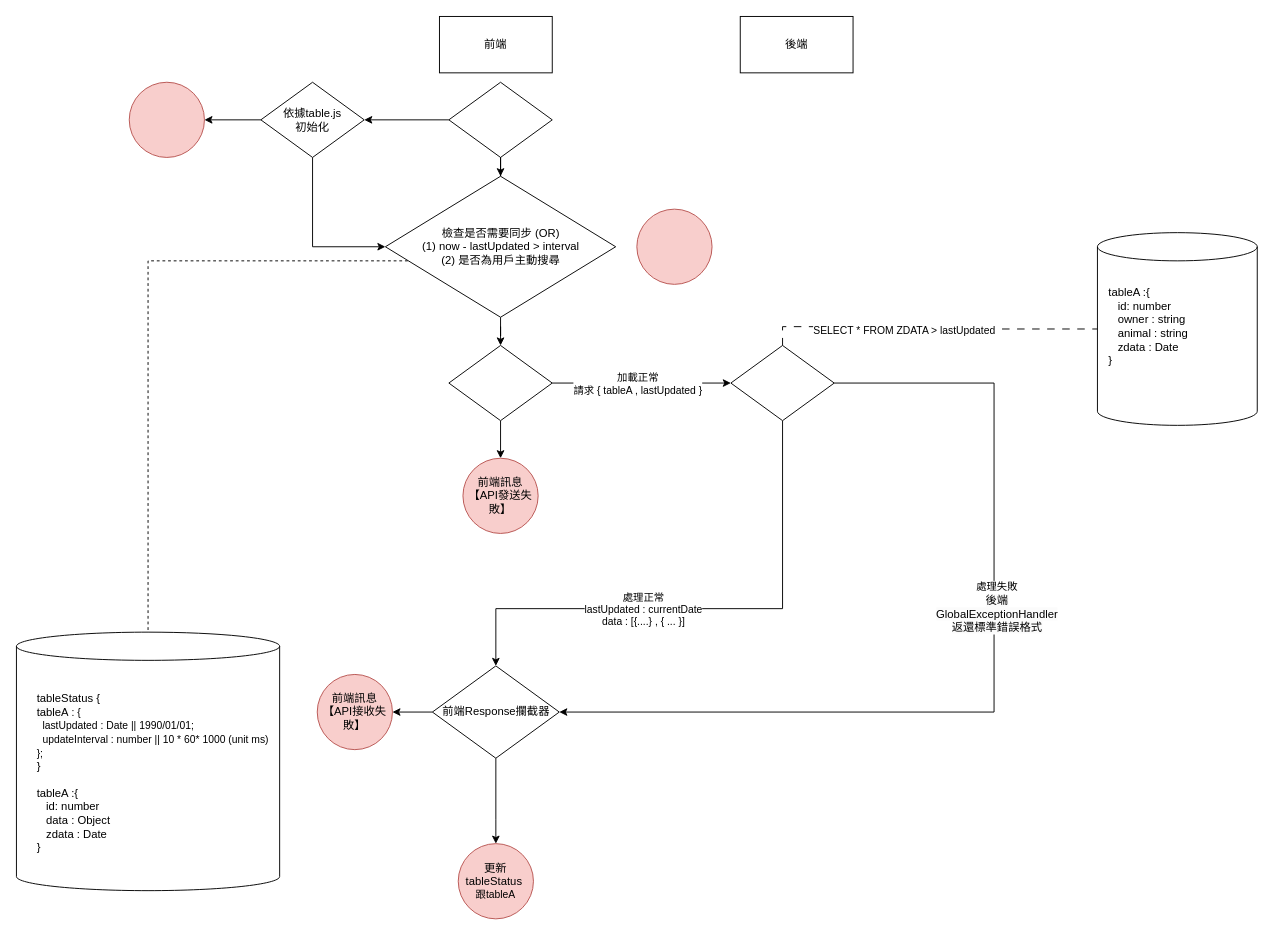
The diagram is 1274 pixels wide and 935 high, and some of its shapes have lost their labels. Each missing label, with the box of its shape:
console.log ("Table A updated !!"): (636, 208, 712, 284)
indexDB 已經有Table: (448, 81, 552, 157)
前端訊息 【Table初始化失敗】: (128, 81, 204, 157)
後端API處理: (730, 345, 834, 421)
發送API: (448, 345, 552, 421)
